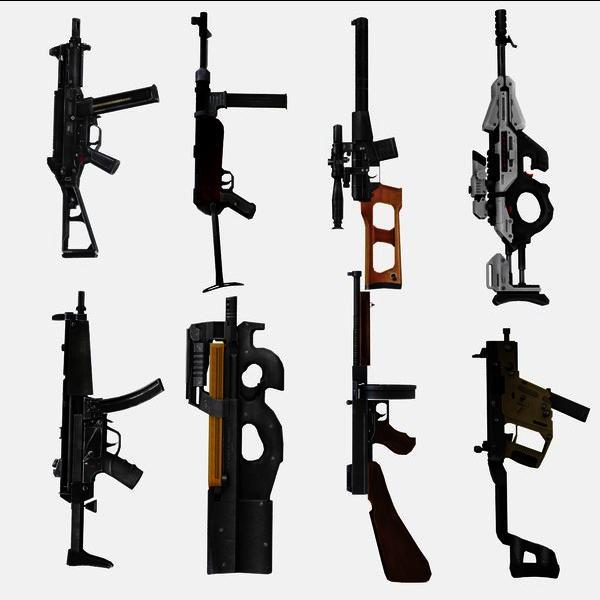gun: (324, 268, 450, 586), (468, 326, 598, 584), (174, 292, 290, 580), (48, 288, 164, 572), (180, 10, 292, 290), (468, 5, 570, 312), (40, 18, 166, 262), (324, 14, 426, 289)
